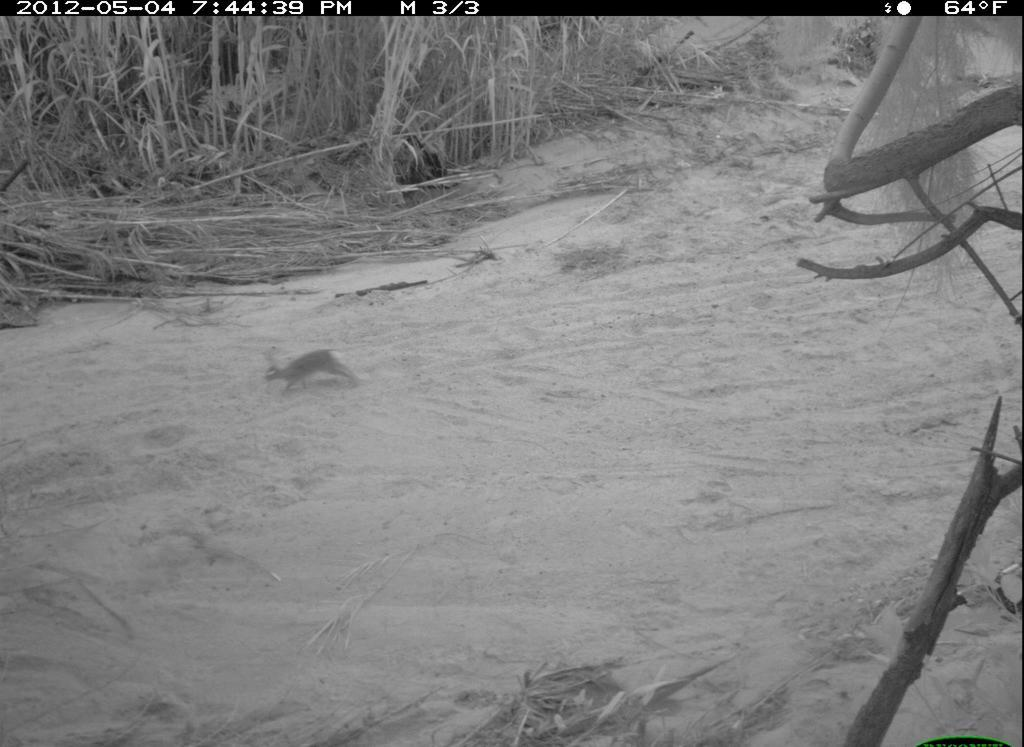rabbit: (237, 342, 374, 410)
